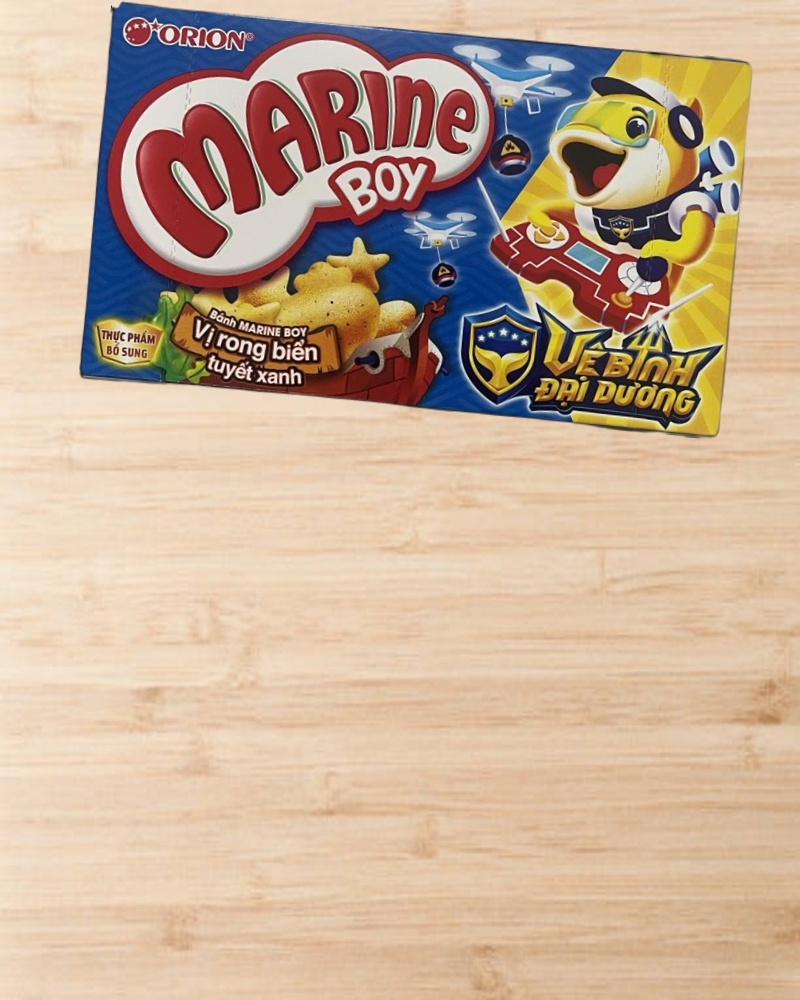Marine: (81, 2, 755, 439)
